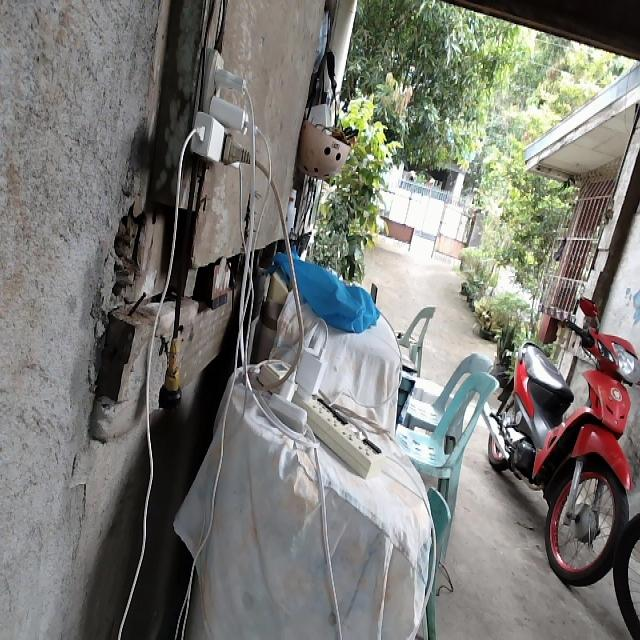-: (187, 43, 260, 173)
